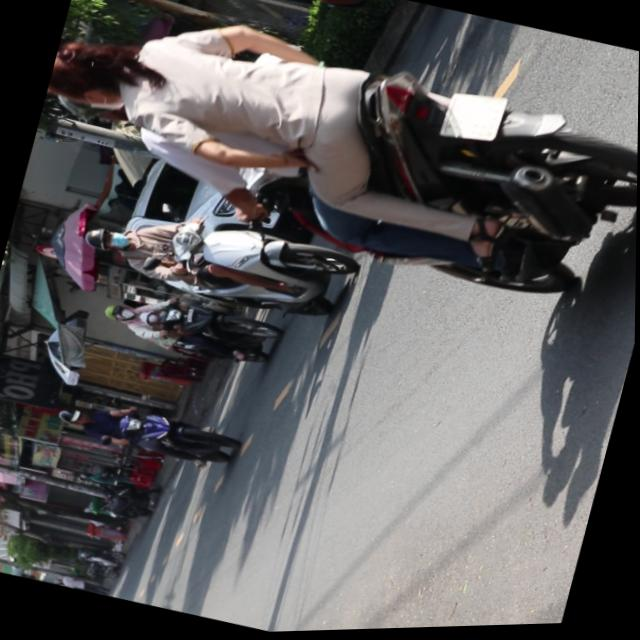helmet: (80, 221, 133, 258), (101, 300, 135, 324)
licenseplate: (18, 0, 640, 345), (71, 181, 363, 339), (95, 277, 285, 378), (50, 384, 245, 481)
nohelmet: (441, 89, 503, 149)
